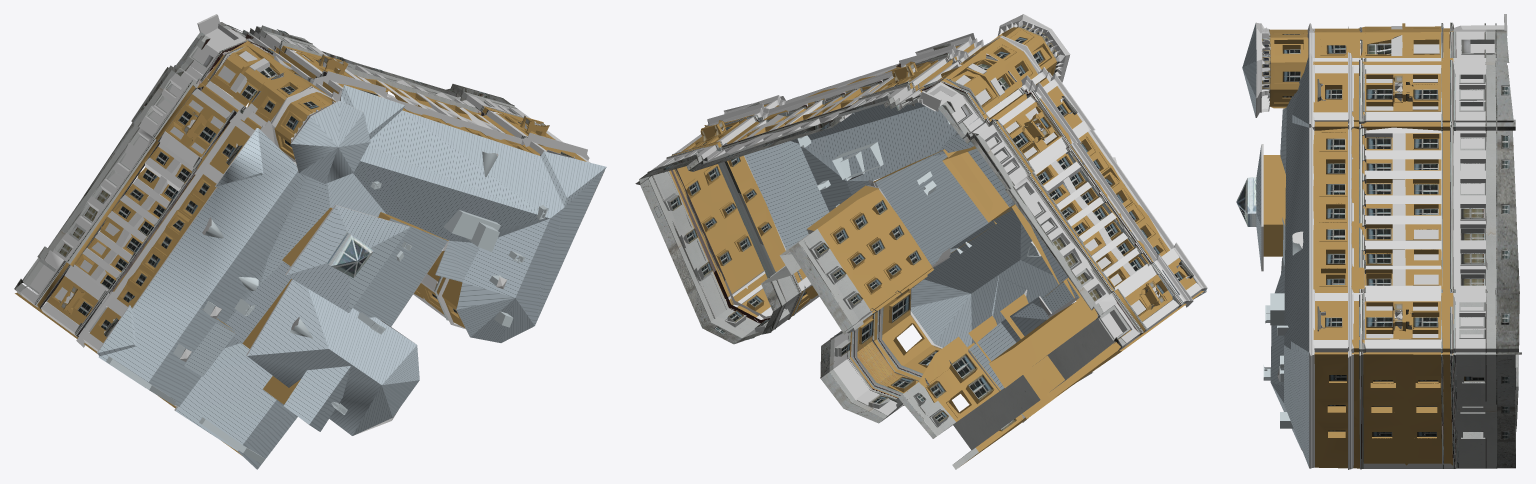
Rendered from Parnu7-origo.obj.
3 views of the same model, side by side, from view 1: azimuth 30°, elevation 25°; view 2: azimuth 150°, elevation 25°; view 3: azimuth 270°, elevation 25° (orthographic). The views are drawn at different scales.
Visible parts, largest first — view 1: p7_obj; view 2: p7_obj; view 3: p7_obj.
Part boxes in pixels (left/top/right/bottom): p7_obj: left=14, top=14, right=606, bottom=469; p7_obj: left=635, top=14, right=1207, bottom=469; p7_obj: left=1236, top=14, right=1521, bottom=469.
Size of the model in its own units: 60.62 by 44.5 by 26.83.
